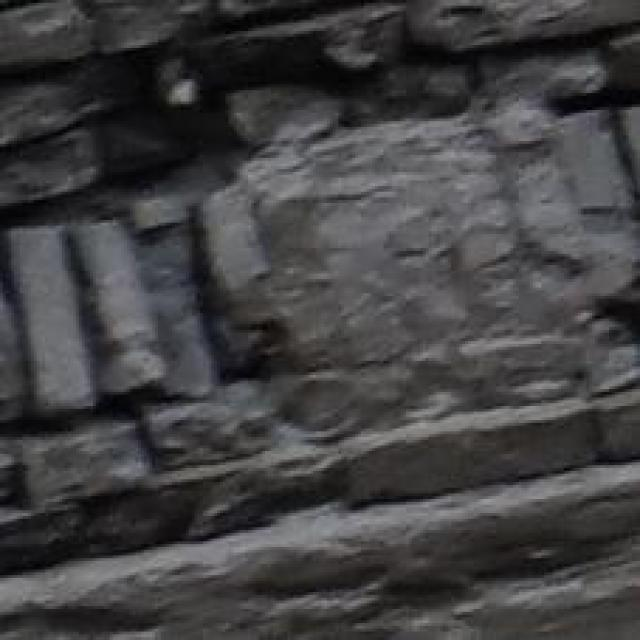Crack: (0, 0, 468, 316)
